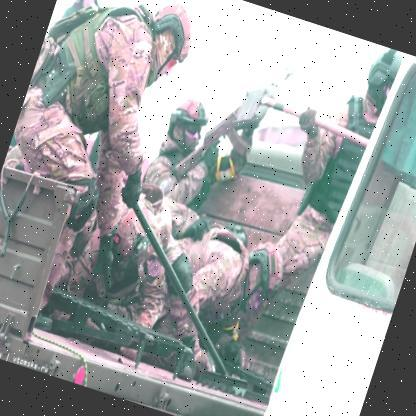rifle: (164, 36, 305, 218), (39, 43, 86, 114)
